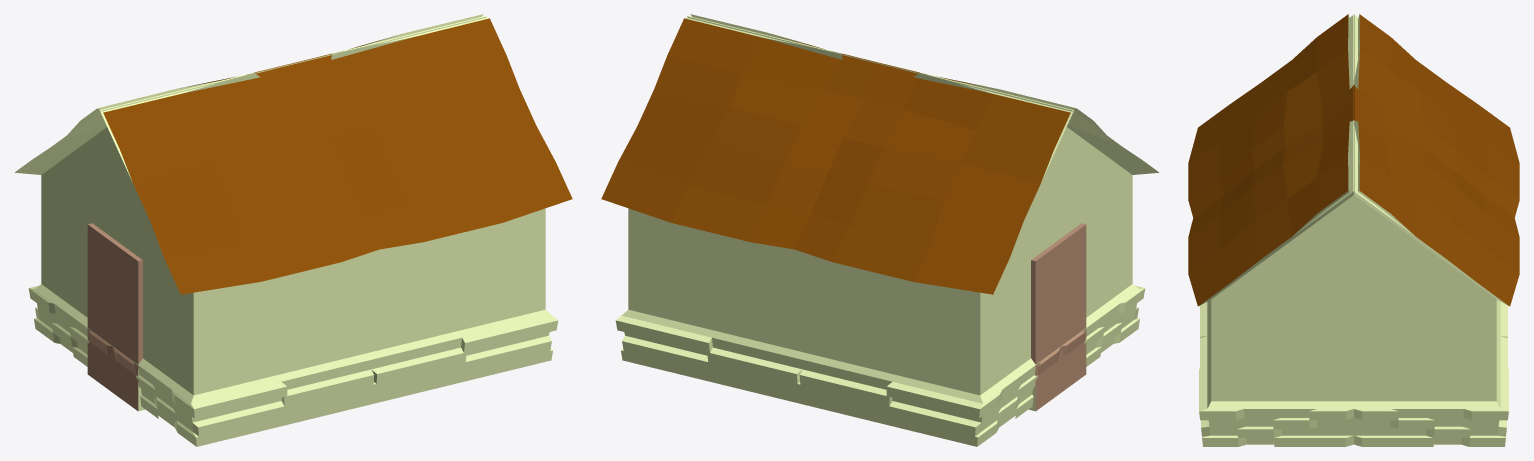
Rendered from Town_House3.fbx.
The picture shows the model from 3 angles, left to right: view 1: azimuth 30°, elevation 25°; view 2: azimuth 150°, elevation 25°; view 3: azimuth 270°, elevation 25°; orthographic projection. The views are drawn at different scales.
Parts seen in each view (by area): view 1: Cube; view 2: Cube; view 3: Cube.
Boxes of the visible parts, bbox=[...] form: Cube: bbox=[15, 14, 572, 446]; Cube: bbox=[601, 14, 1158, 446]; Cube: bbox=[1188, 14, 1519, 446].
Size of the model in its own units: 891 by 620 by 697.
